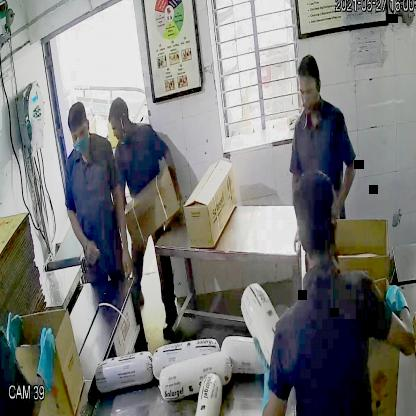no_goggles: (67, 123, 91, 145), (298, 82, 320, 104)
